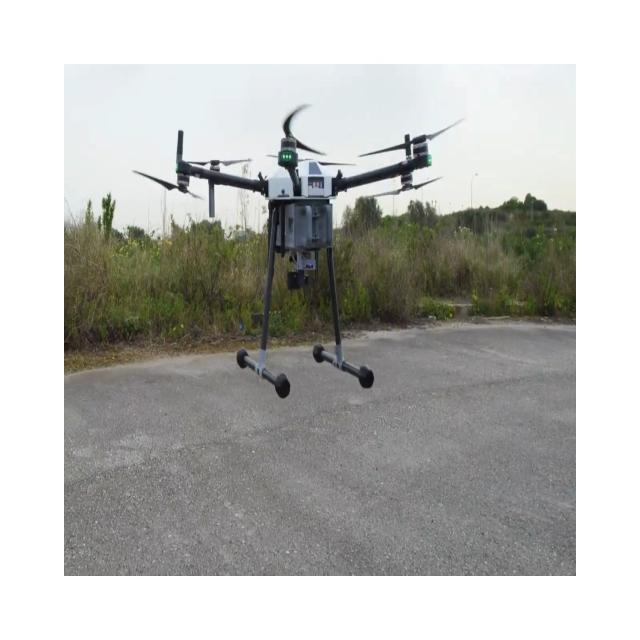drone: (132, 102, 465, 398)
